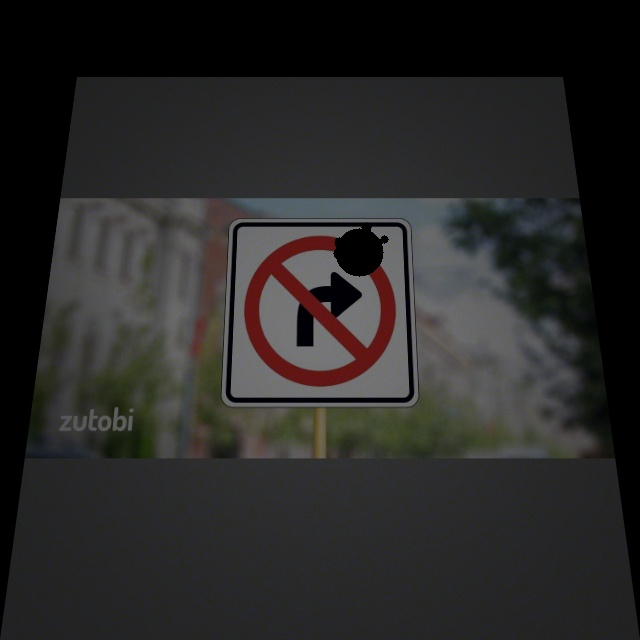Right_Turn_Prohibited: (238, 229, 406, 392)
